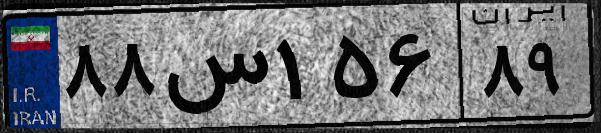1: (270, 28, 330, 110)
5: (330, 28, 385, 110)
6: (385, 28, 445, 110)
8: (57, 26, 110, 100), (475, 38, 525, 113), (110, 28, 158, 98)
9: (525, 38, 570, 115)
س: (158, 20, 270, 120)
